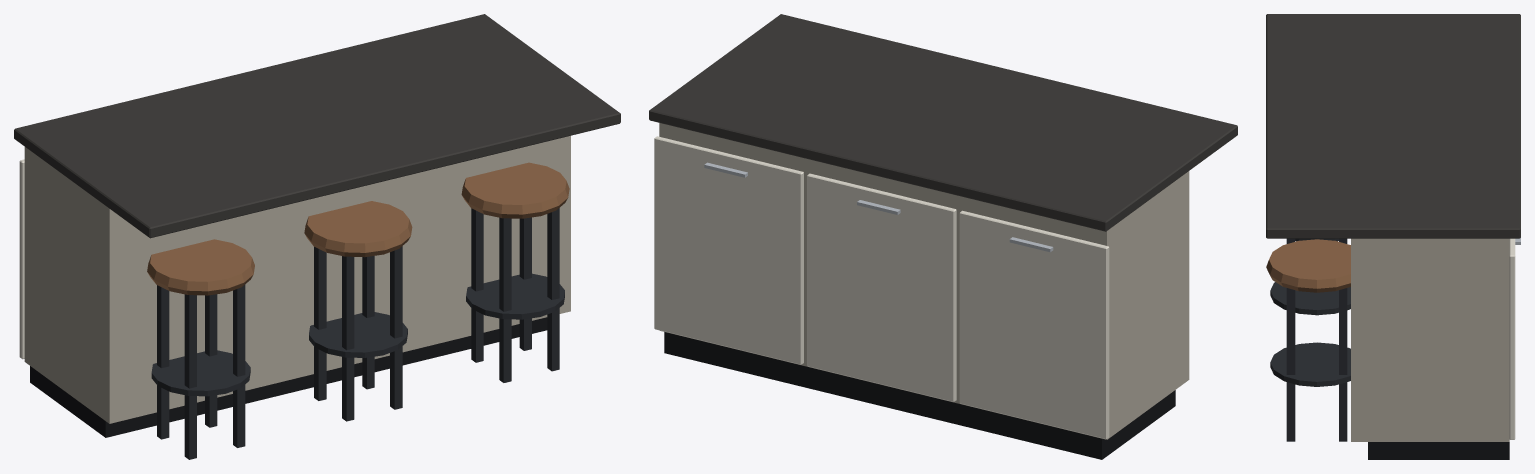
File: kitchen_island.glb
The picture shows the model from 3 angles, left to right: view 1: azimuth 30°, elevation 25°; view 2: azimuth 150°, elevation 25°; view 3: azimuth 270°, elevation 25°; orthographic projection. The views are drawn at different scales.
Parts seen in each view (by area): view 1: kitchen_island; view 2: kitchen_island; view 3: kitchen_island.
Part boxes in pixels (x1,y1,x2,y2): kitchen_island: (14,14,620,459); kitchen_island: (649,14,1237,459); kitchen_island: (1266,14,1520,459).
Size of the model in its own units: 1.8 by 0.92 by 0.9.
